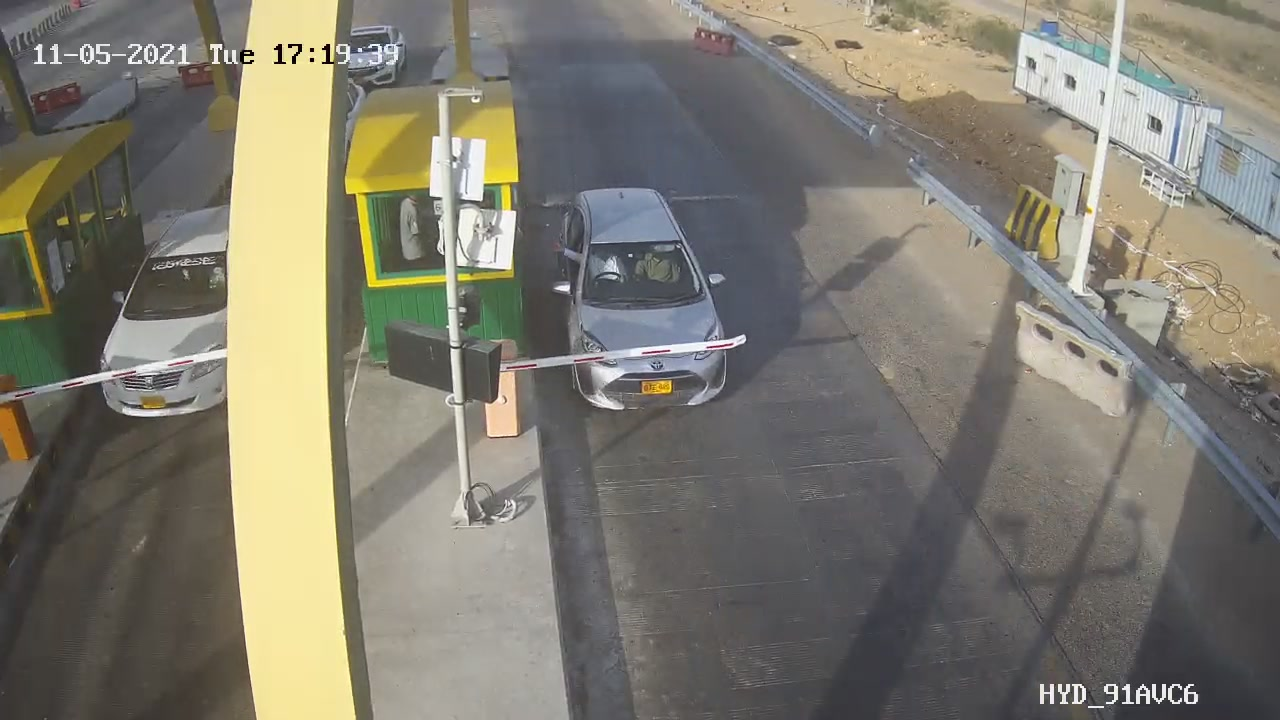F1: (534, 172, 755, 429)
